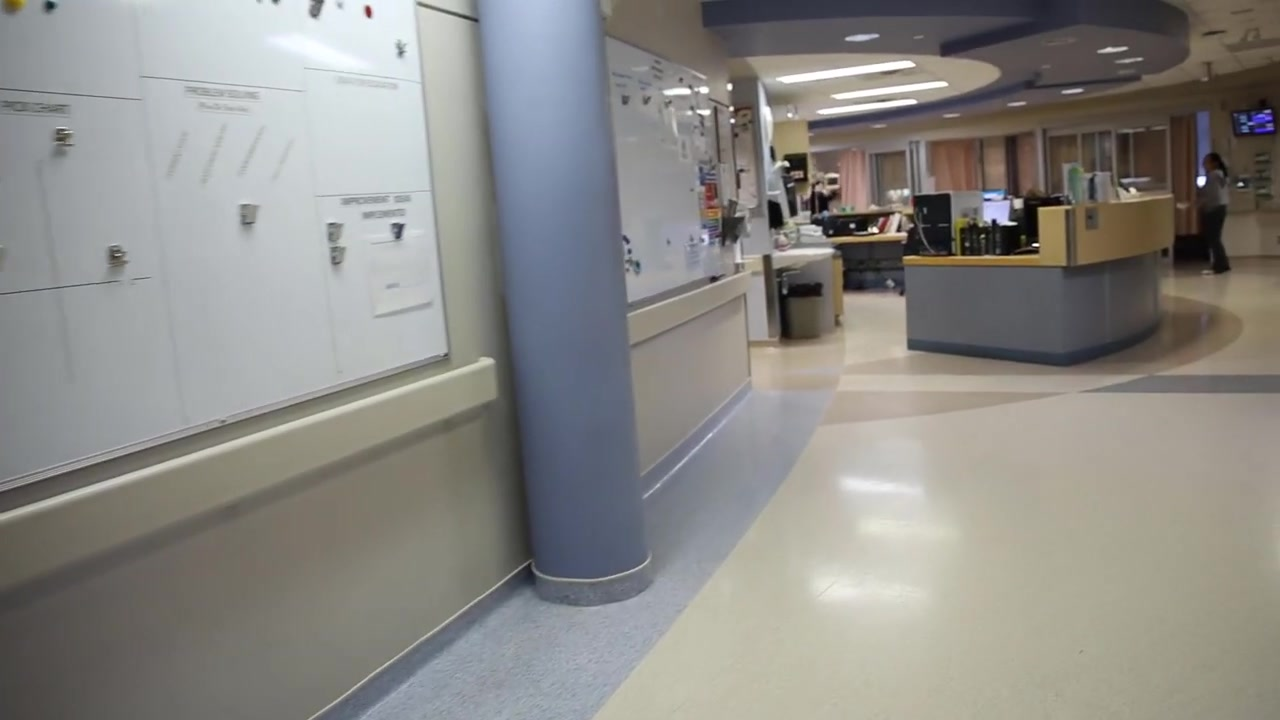TV: (1231, 107, 1276, 137)
counter: (901, 190, 1175, 363)
hallway_assist_bar: (1, 354, 498, 603), (625, 269, 751, 346)
person: (1193, 151, 1231, 276)
sink: (773, 246, 836, 271)
waste_bin: (780, 282, 824, 340)
